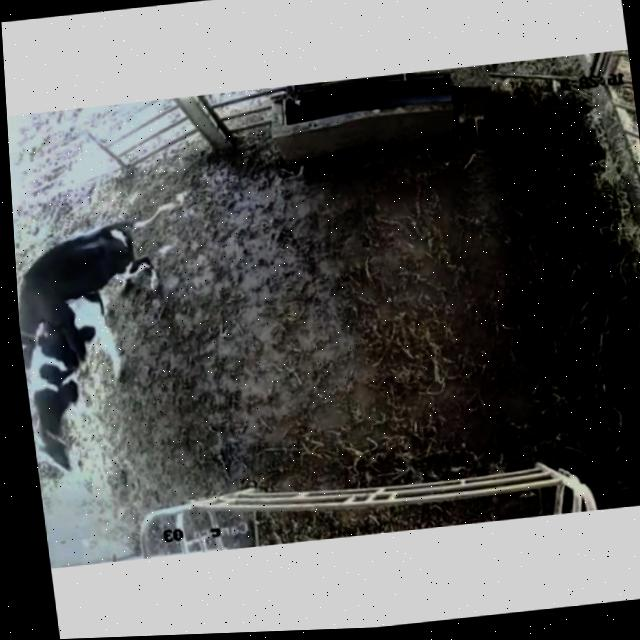ride: (12, 190, 196, 377)
